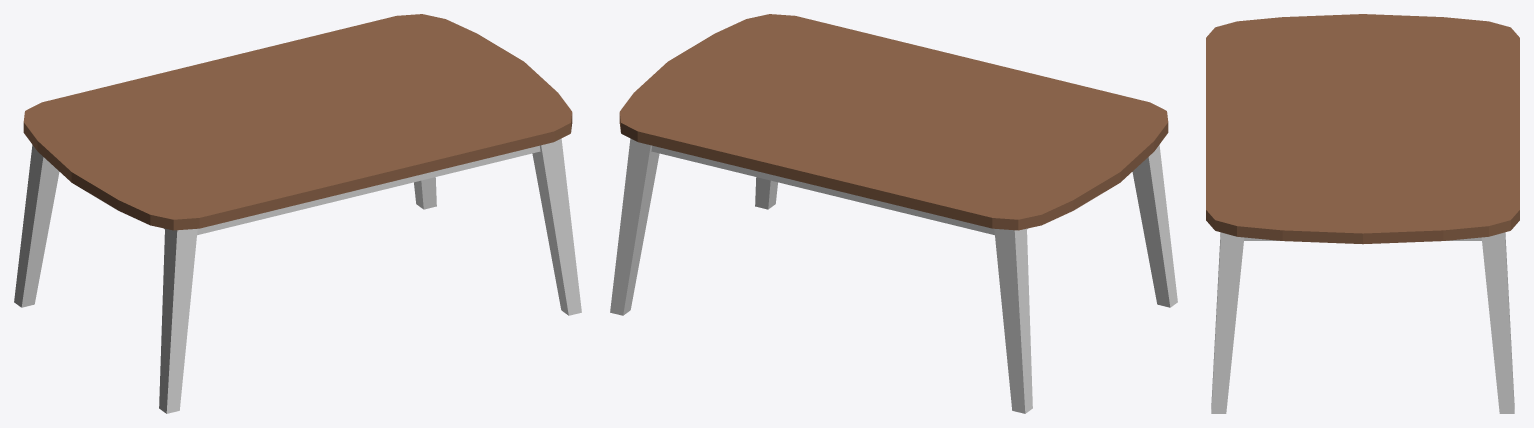
File: SmallTable_01_C3.fbx
3 renders of one model, left to right at view 1: azimuth 30°, elevation 25°; view 2: azimuth 150°, elevation 25°; view 3: azimuth 270°, elevation 25°, orthographic.
Parts seen in each view (by area): view 1: SmallTable_01_C3; view 2: SmallTable_01_C3; view 3: SmallTable_01_C3.
Part boxes in pixels (x1=…): SmallTable_01_C3: x1=14, y1=14, x2=581, y2=413; SmallTable_01_C3: x1=610, y1=14, x2=1177, y2=413; SmallTable_01_C3: x1=1206, y1=14, x2=1519, y2=413.
Size of the model in its own units: 109 by 43.86 by 65.85.
